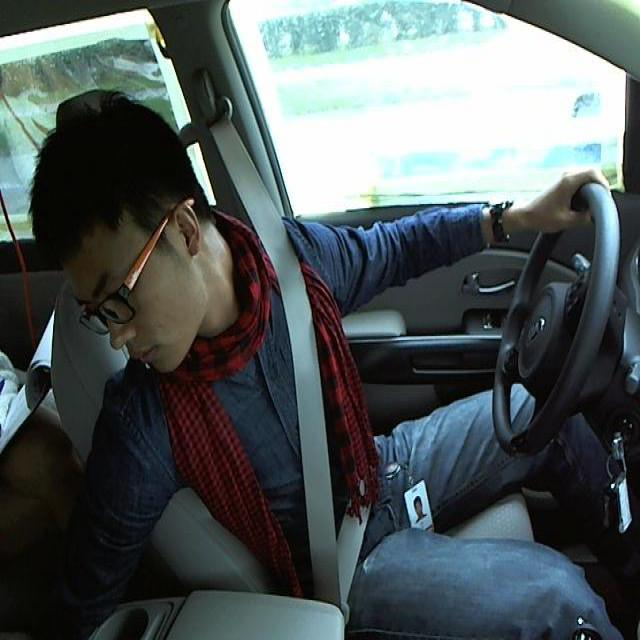seatbelt: (251, 222, 372, 594)
